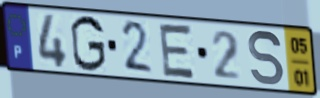2: (120, 19, 155, 79), (210, 29, 242, 82)
4: (36, 12, 70, 70)
E: (158, 21, 198, 81)
G: (69, 14, 108, 74)
S: (246, 28, 286, 89)
